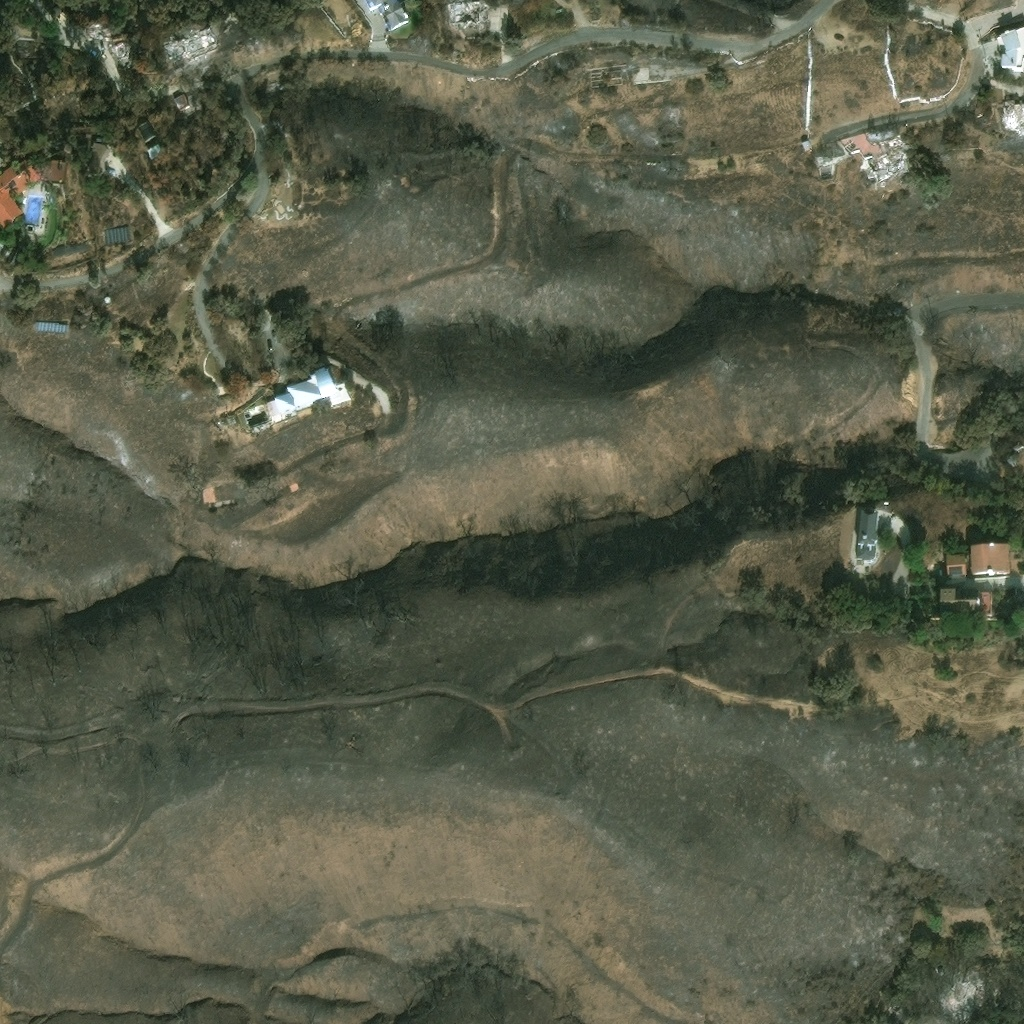0 no-damage: (265, 367, 349, 424), (965, 540, 1011, 574), (994, 25, 1023, 70), (855, 505, 877, 558), (367, 0, 407, 29), (936, 585, 975, 609), (945, 553, 965, 578), (103, 224, 129, 243), (46, 159, 67, 182), (136, 120, 156, 140), (32, 320, 67, 331), (144, 142, 163, 160), (976, 590, 991, 611), (172, 94, 186, 110), (800, 138, 812, 150), (1006, 456, 1018, 467)
3 destroyed: (160, 25, 217, 63), (866, 135, 902, 172), (447, 0, 482, 25), (1003, 100, 1023, 128), (111, 39, 130, 67), (21, 39, 50, 57), (86, 24, 110, 44), (952, 996, 977, 1014), (979, 114, 991, 125)
